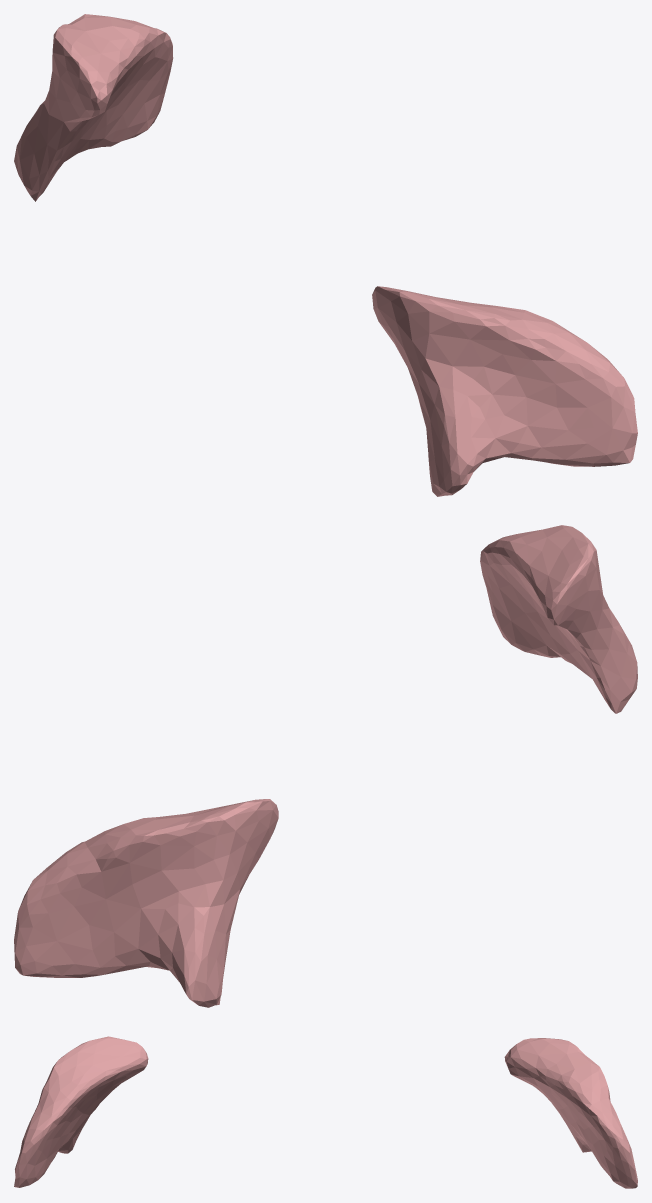
The picture shows the model from 3 angles, top to bottom: view 1: azimuth 30°, elevation 25°; view 2: azimuth 150°, elevation 25°; view 3: azimuth 270°, elevation 25°; orthographic projection. The views are drawn at different scales.
Visible parts, largest first — view 1: 563807435.obj; view 2: 563807435.obj; view 3: 563807435.obj.
Boxes of the visible parts, left/top/right/bottom form: 563807435.obj: left=14, top=14, right=637, bottom=496; 563807435.obj: left=14, top=525, right=637, bottom=1007; 563807435.obj: left=14, top=1036, right=637, bottom=1188.
Size of the model in its own units: 864 by 865 by 4197.
